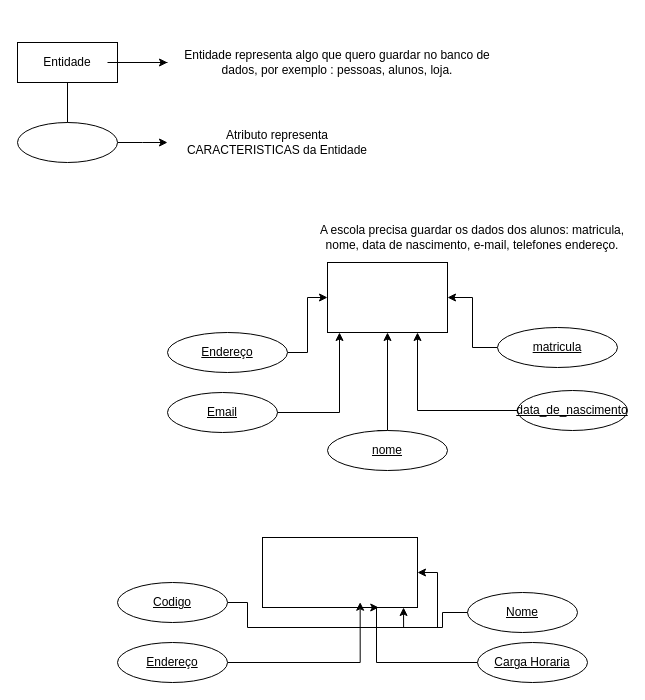
The diagram is 645 pixels wide and 700 high, and some of its shapes have lost their labels. The shapes that lost their labels are listed below. From the top down, each one's centre as x and y in pixels, then its label:
At (x=67, y=142): "Atributo".
At (x=387, y=297): "Aluno".
At (x=340, y=572): "Curso".
